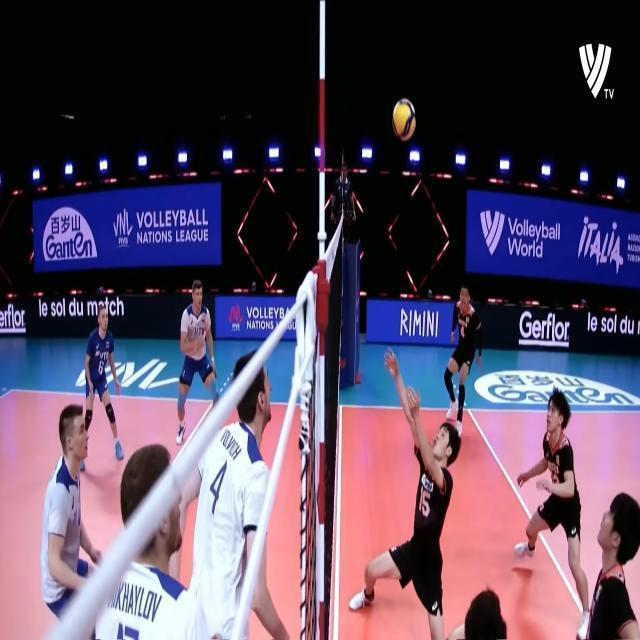volleyball: (392, 97, 418, 141)
